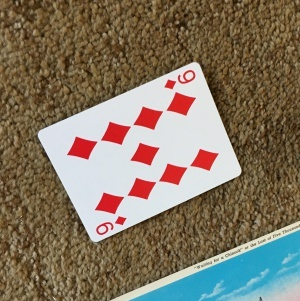card: (37, 58, 244, 243)
